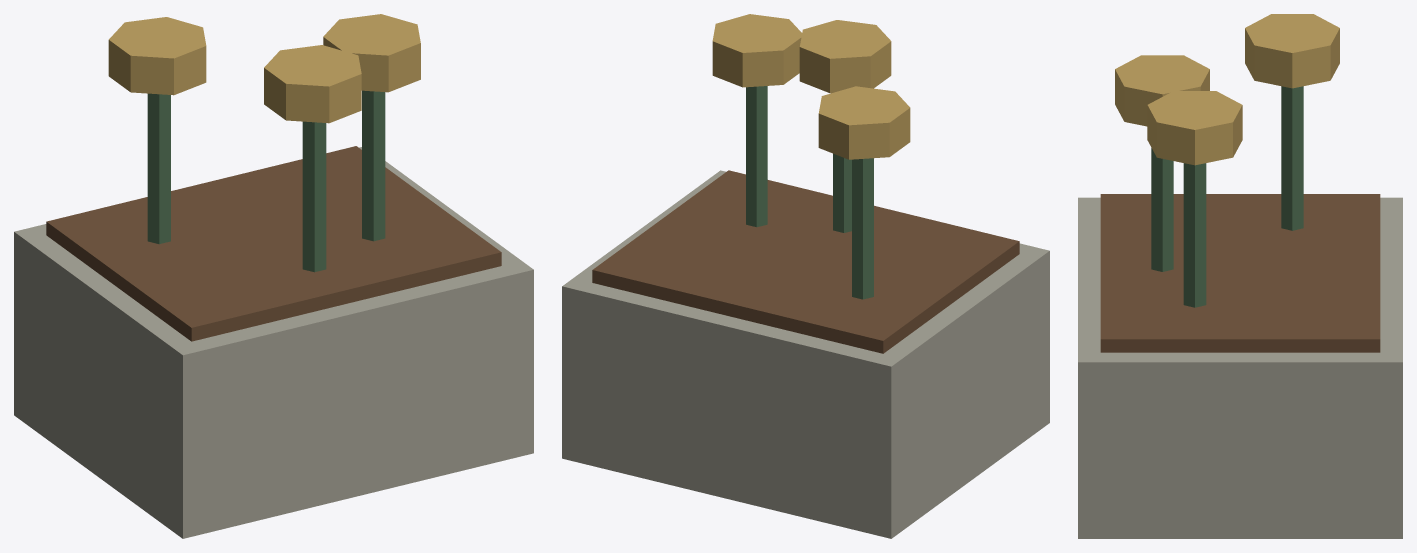
File: planter.glb
3 views of the same model, side by side, from view 1: azimuth 30°, elevation 25°; view 2: azimuth 150°, elevation 25°; view 3: azimuth 270°, elevation 25° (orthographic). The views are drawn at different scales.
Parts seen in each view (by area): view 1: planter; view 2: planter; view 3: planter.
Boxes of the visible parts, x1,y1,x2,y2 form: planter: (14, 14, 533, 538); planter: (562, 14, 1049, 538); planter: (1078, 14, 1402, 538).
Bounding box in the file's own units: 1 × 1.08 × 0.8333.
